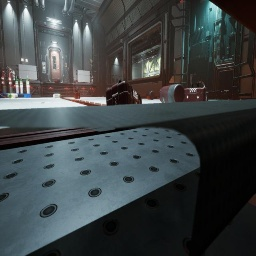0: (26, 75, 30, 94), (15, 75, 19, 94), (6, 93, 18, 99), (20, 76, 23, 94), (53, 94, 62, 98)
EmergencyPhone ,: (65, 62, 67, 67), (0, 71, 0, 76)
FireAlarm ,: (67, 67, 69, 71), (0, 78, 1, 82), (124, 70, 125, 74)
FireExtinguisher ]: (54, 80, 60, 83), (0, 89, 2, 93)
FirstAidBox ,: (106, 80, 142, 106), (184, 82, 208, 102), (74, 90, 80, 99)
NitrogenTank ,: (159, 84, 185, 103), (0, 68, 6, 93), (8, 69, 14, 93), (1, 70, 7, 94), (146, 91, 155, 100), (47, 80, 52, 82)
SafetySwitchPanel ,: (169, 62, 176, 83), (42, 62, 46, 74)
